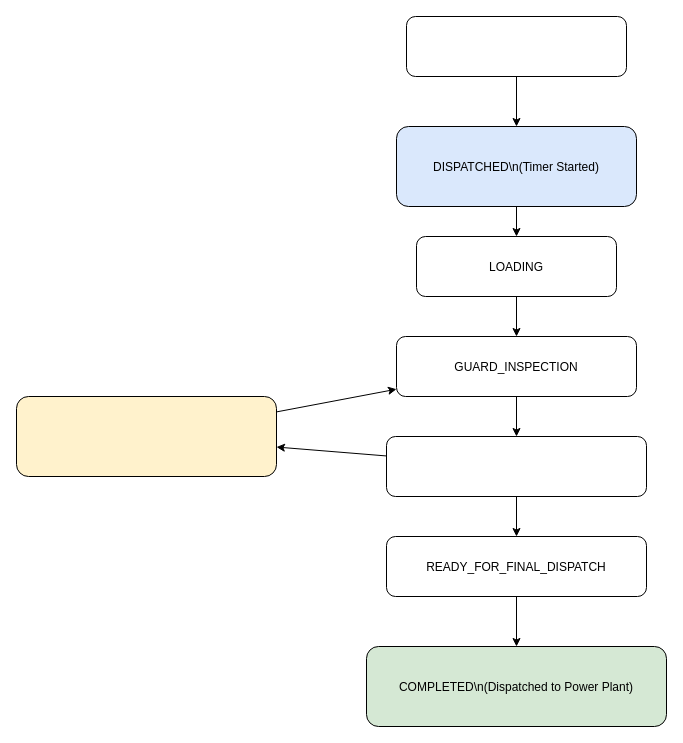
The diagram is 683 pixels wide and 743 high, and some of its shapes have lost their labels. Each missing label, with the centre of its shape:
RELOADING\n(Remove Extra Coal): the point at 146,436
TXR_COMPLETED: the point at 516,46
WEIGHMENT_IN_PROGRESS: the point at 516,466
